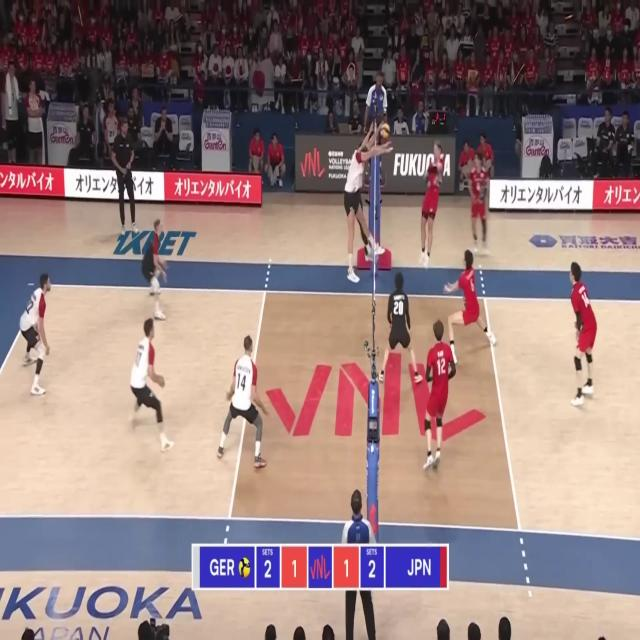referee: (338, 489, 379, 640)
team_one: (216, 334, 268, 470), (345, 134, 389, 282), (130, 319, 174, 451), (21, 271, 52, 395), (141, 219, 170, 322)
team_two: (442, 250, 496, 364), (376, 272, 423, 386), (423, 320, 457, 474), (568, 262, 598, 410), (418, 143, 443, 267), (466, 152, 492, 255)
